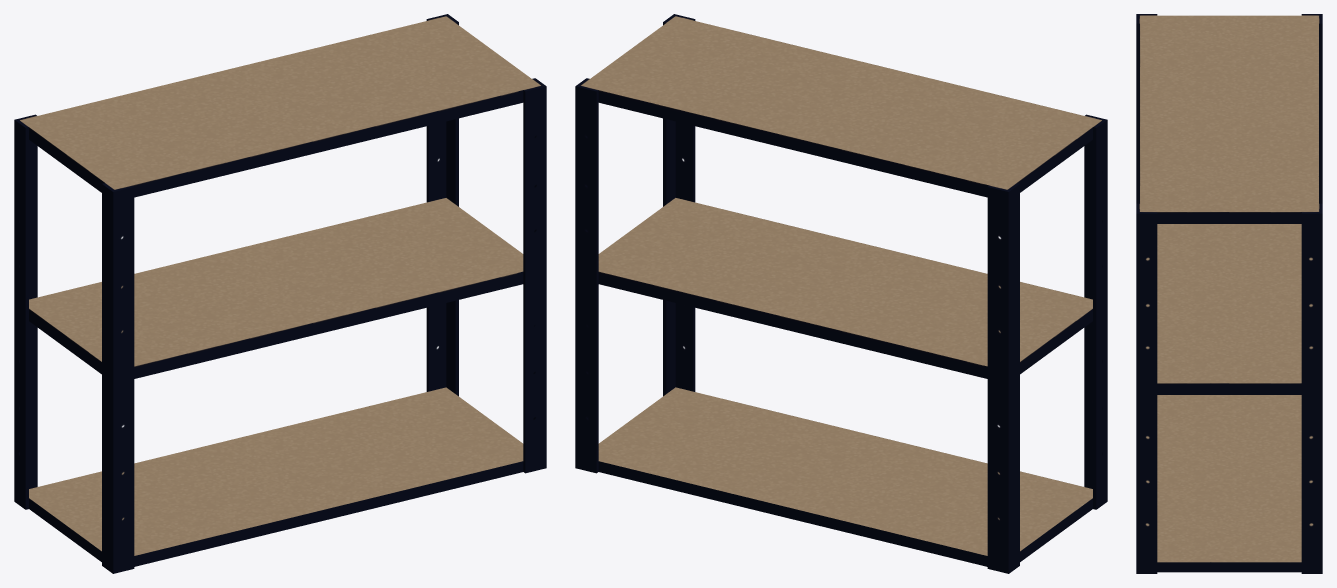
File: midpoly shelves.glb
3 renders of one model, left to right at view 1: azimuth 30°, elevation 25°; view 2: azimuth 150°, elevation 25°; view 3: azimuth 270°, elevation 25°, orthographic. The views are drawn at different scales.
Visible parts, largest first — view 1: Shelf_LP; view 2: Shelf_LP; view 3: Shelf_LP.
Boxes of the visible parts, x1,y1,x2,y2 form: Shelf_LP: (14, 14, 546, 573); Shelf_LP: (575, 14, 1107, 573); Shelf_LP: (1136, 14, 1322, 573).
Size of the model in its own units: 2.11 by 1.78 by 0.8333.
1 material, 1 textured.
